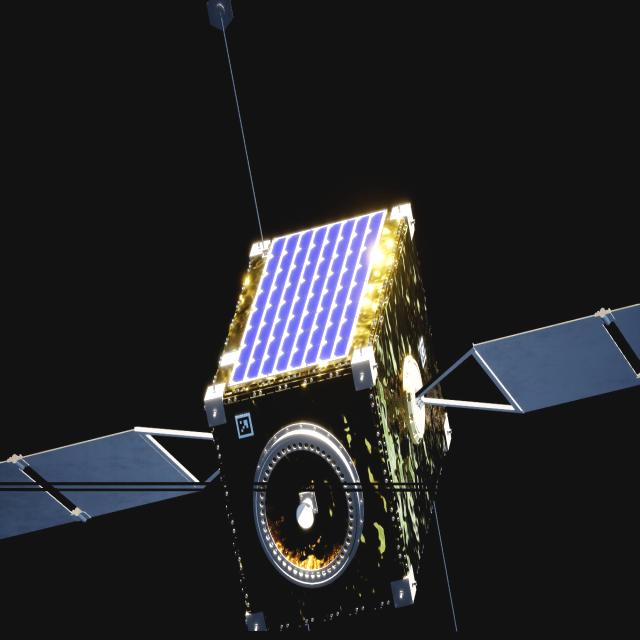satellite: (0, 204, 640, 631)
